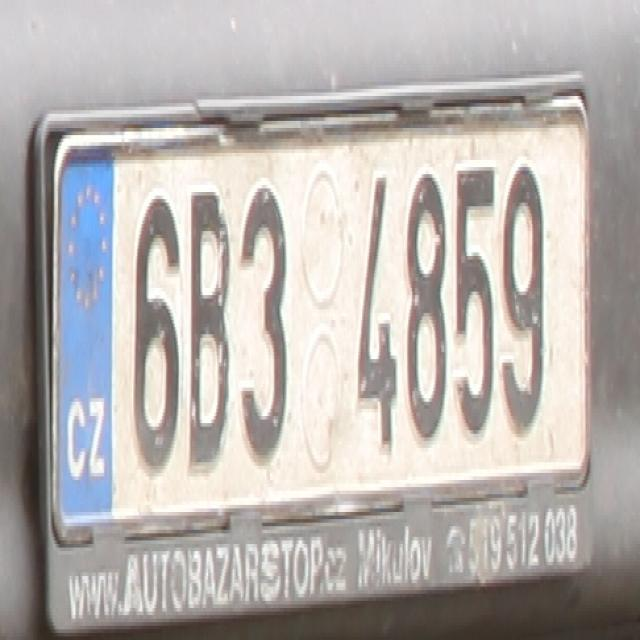3: (240, 182, 287, 462)
4: (354, 167, 396, 445)
5: (454, 160, 494, 423)
6: (132, 192, 180, 466)
8: (406, 171, 448, 441)
9: (502, 156, 542, 426)
B: (187, 178, 230, 466)
